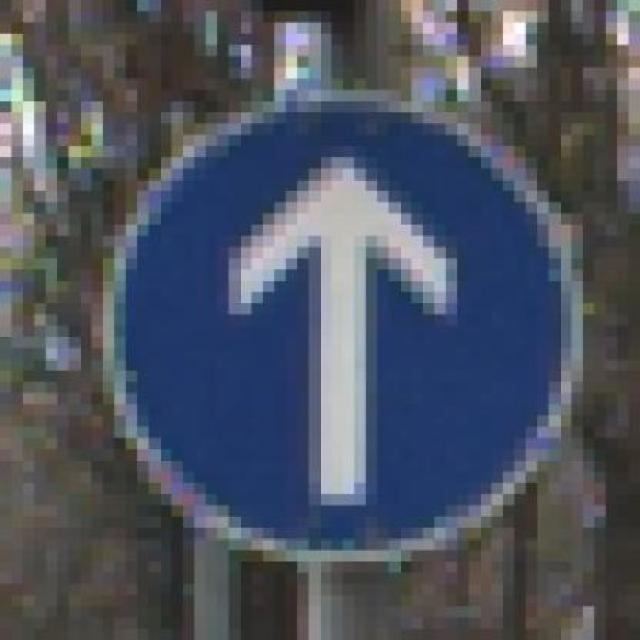Straight Ahead Only: (102, 78, 595, 584)
